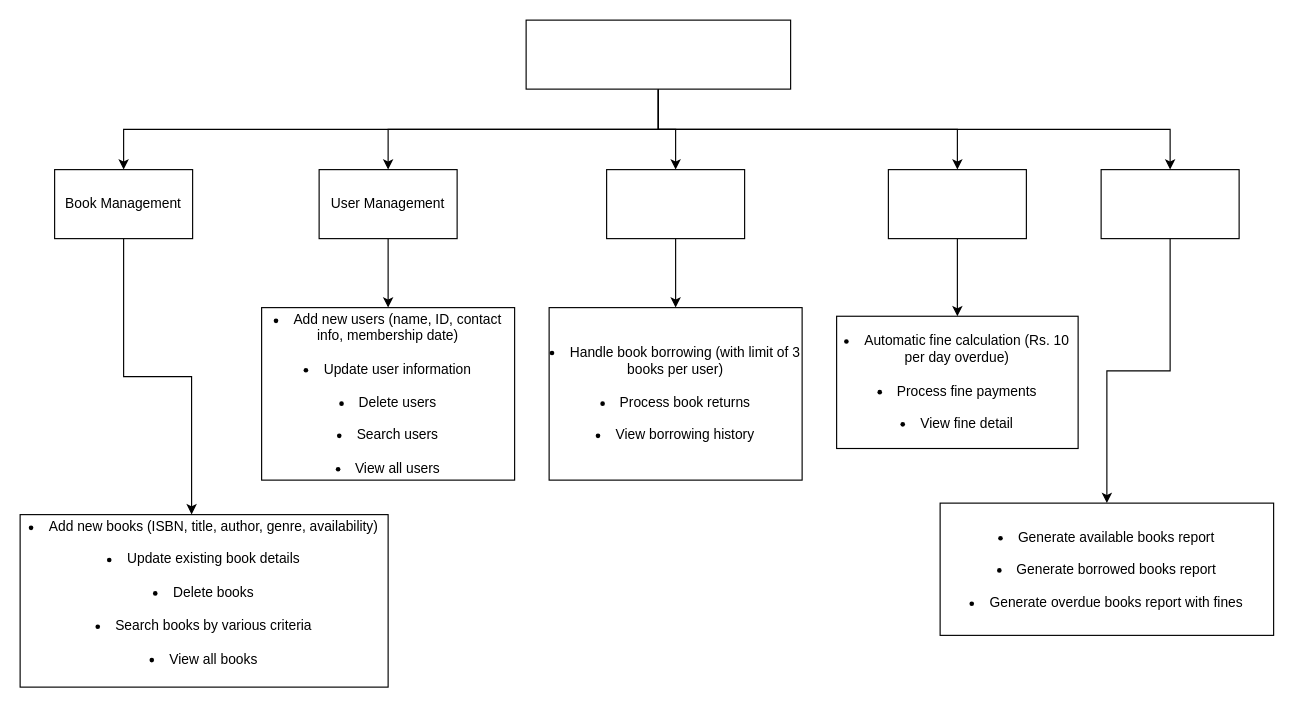
This 1294x720 diagram has some shape labels left out. The shapes that lost their labels are listed below. From the top down, each one's centre as x and y in pixels, then its label:
At (x=658, y=54): "BookLib (PVT) Ltd -LMS".
At (x=675, y=203): "Borrow Management".
At (x=956, y=203): "Fine Management".
At (x=1169, y=203): "Report Management".
